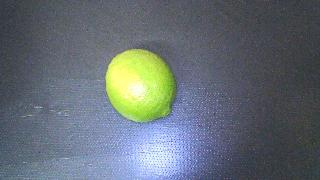EXPORTACION: (105, 49, 176, 122)
